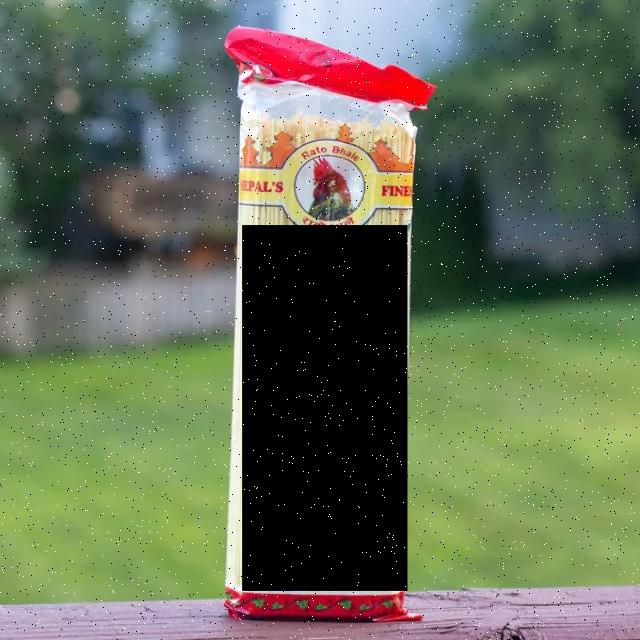Thukpa_Noodles: (243, 226, 408, 592)
